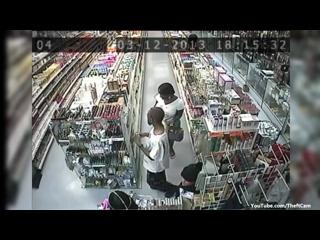Normal: (133, 106, 180, 198), (154, 82, 184, 130)
